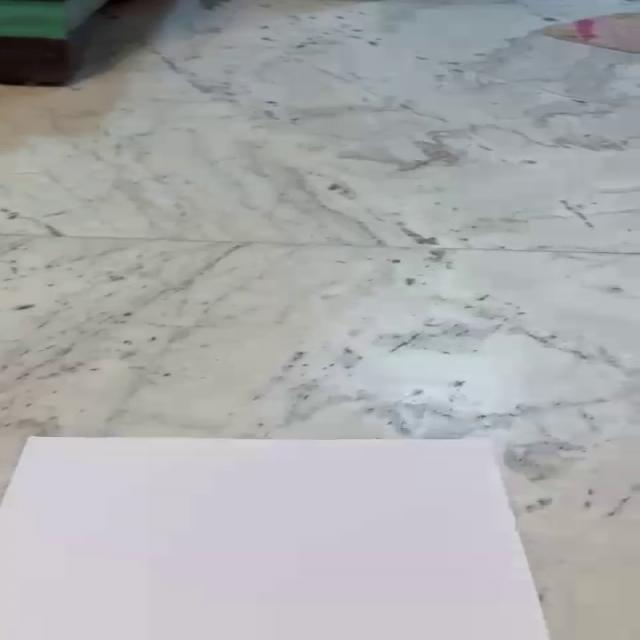road: (0, 436, 552, 640)
